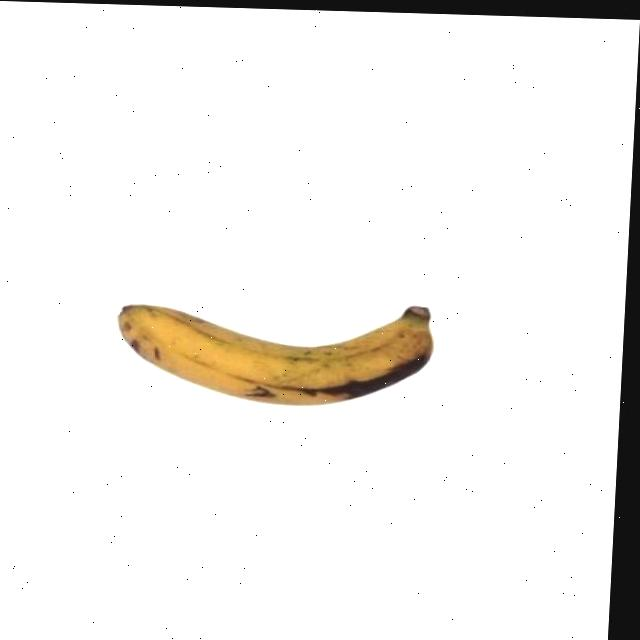banana: (99, 290, 444, 413)
